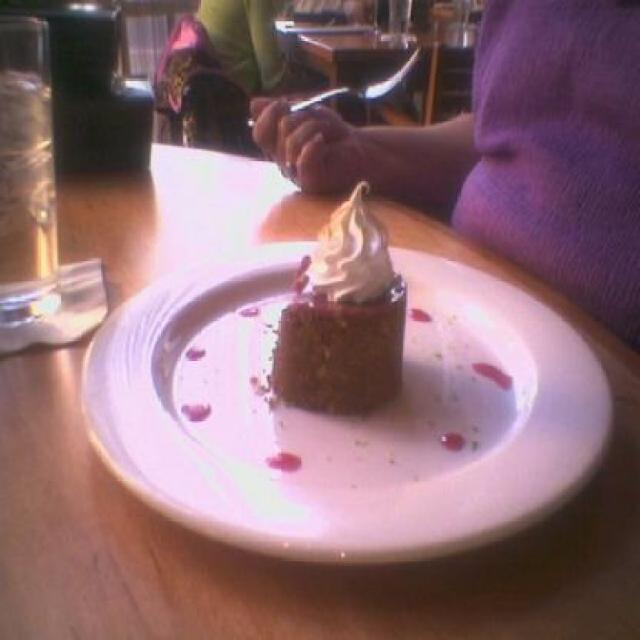Cake: (268, 180, 406, 418)
